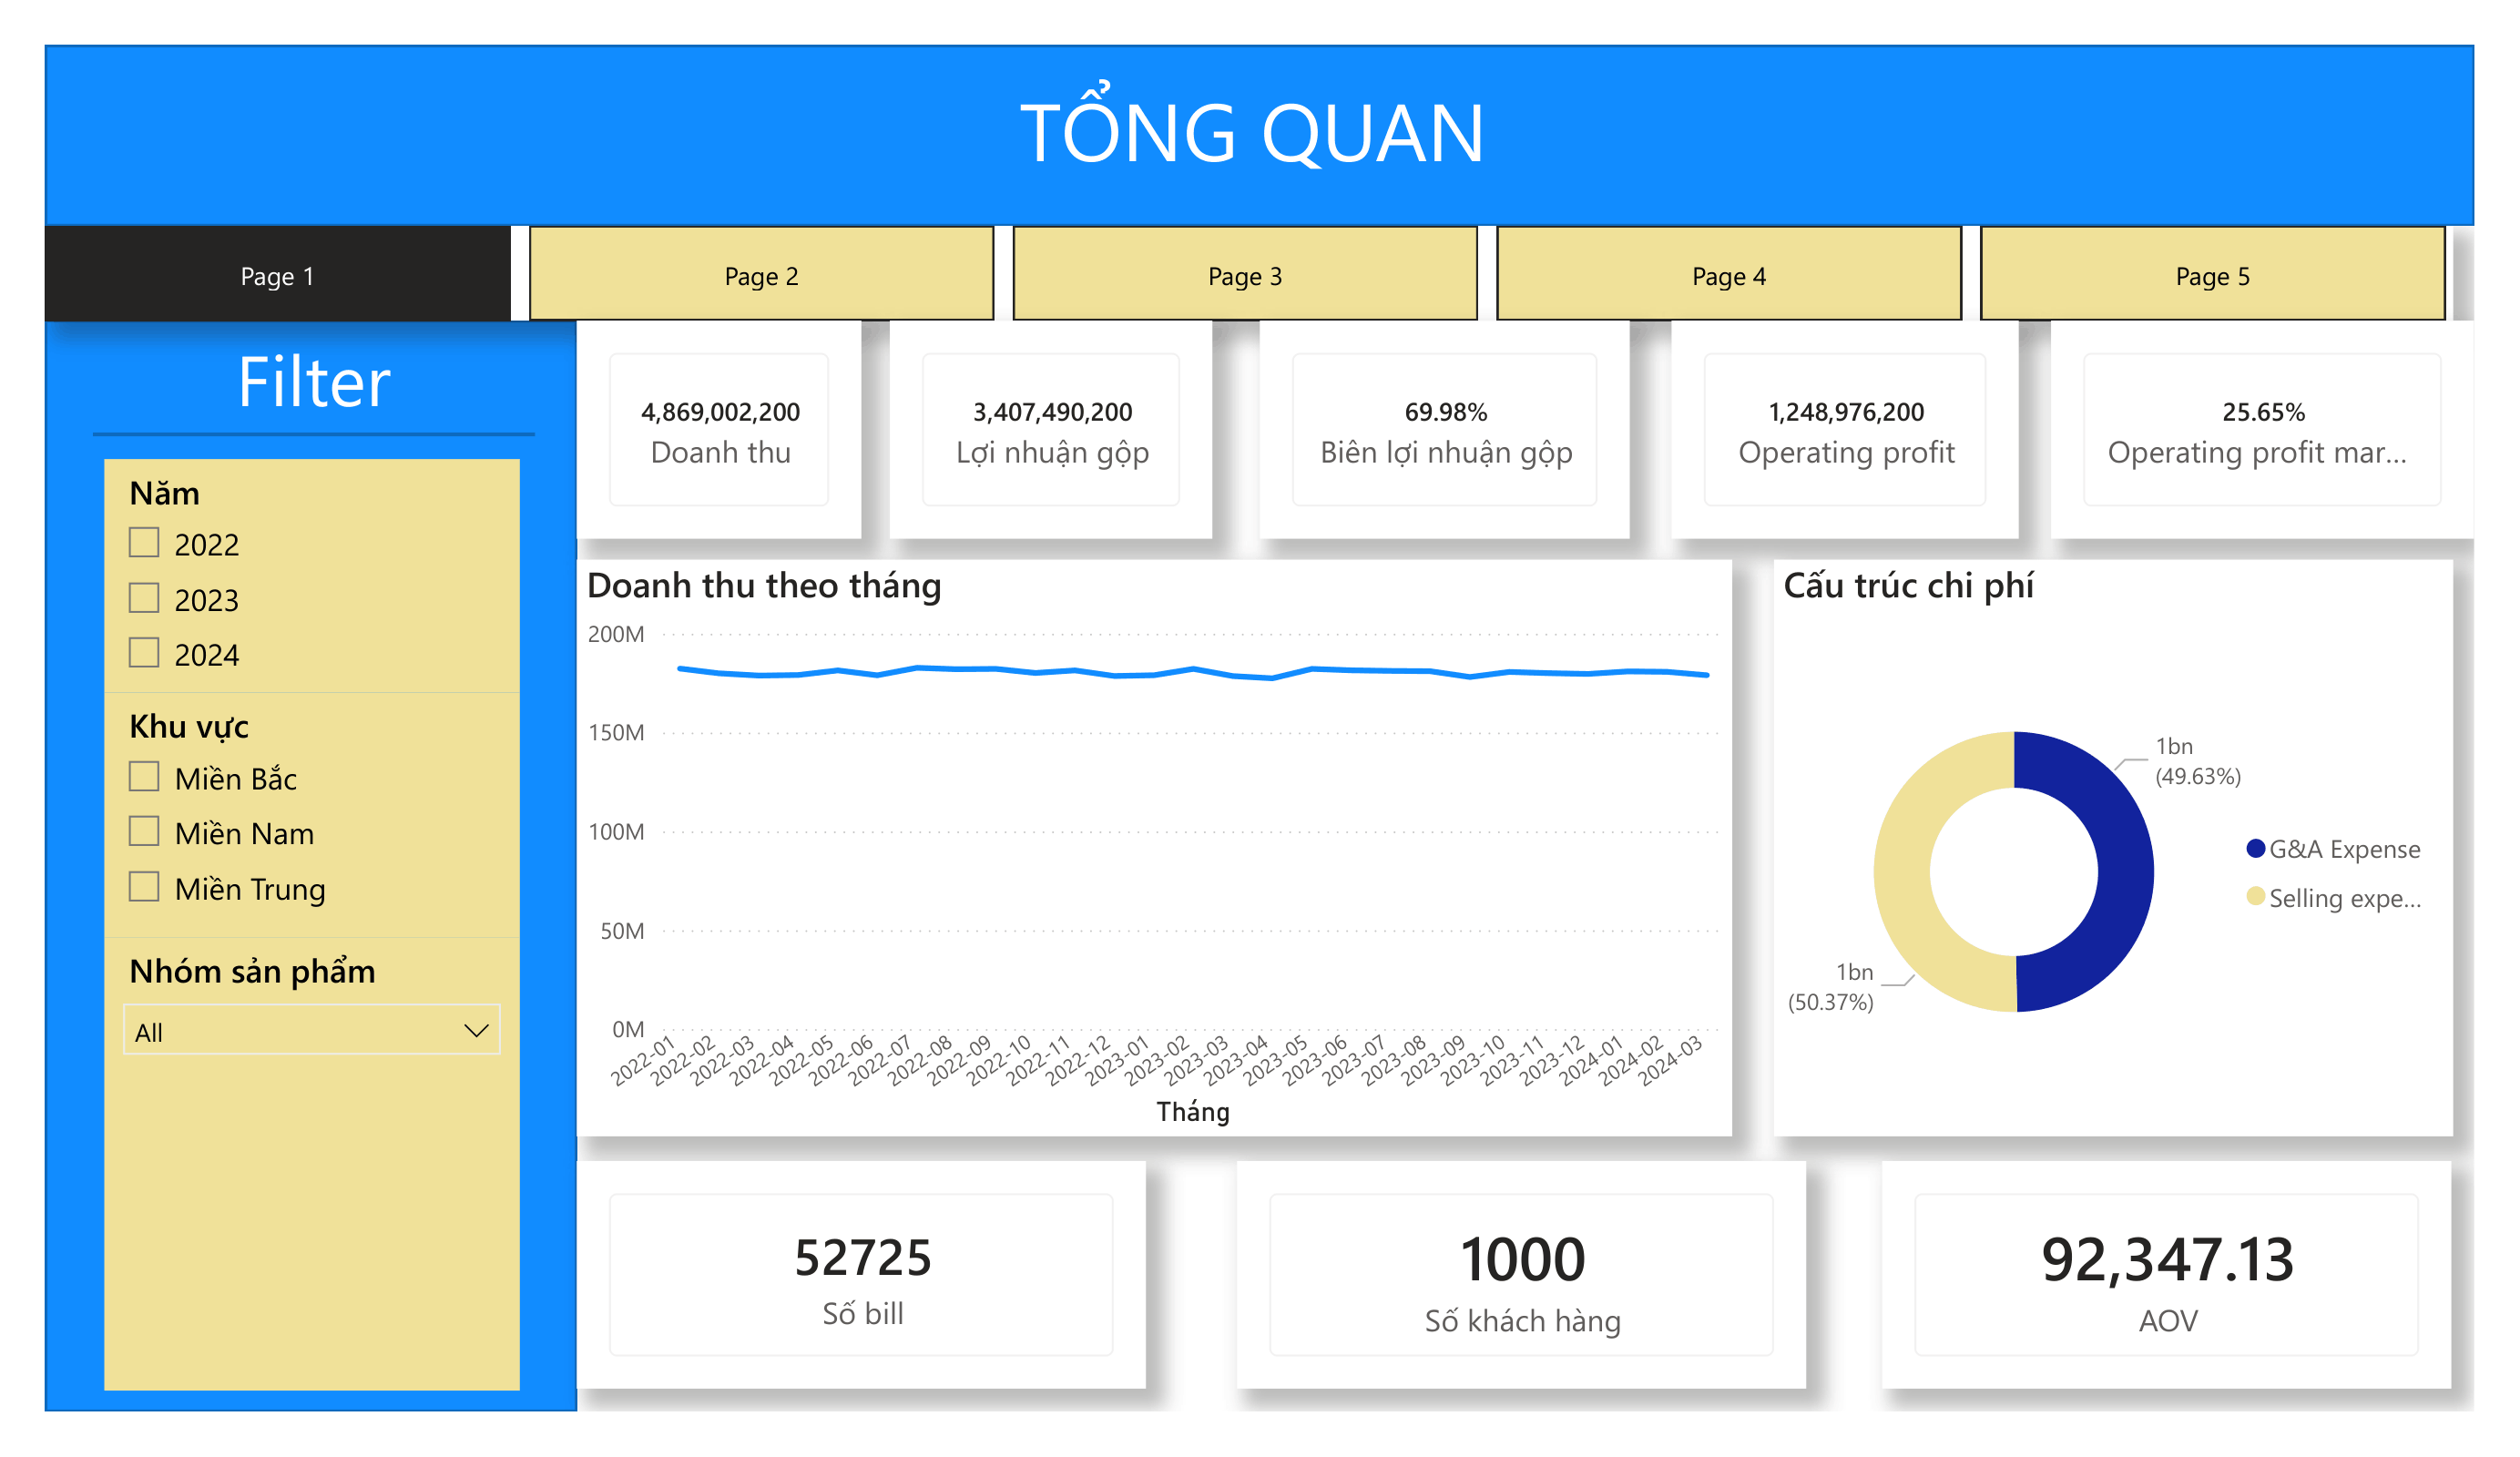

The page's visual inventory and layout, read from the dashboard file:
{"tool":"powerbi","page":{"name":"Page 1","canvas":[1280,720],"ordinal":0},"visuals":[{"type":"shape","box":[0,145,280,575],"z":0},{"type":"textbox","box":[31.7,145,218.3,60],"z":1000},{"type":"shape","box":[25,193.3,233.3,23.3],"z":2000},{"type":"slicer","fields":{"Values":["dim_product.Nhóm sản phẩm"]},"box":[31.2,470,218.8,238.8],"z":3000},{"type":"slicer","fields":{"Values":["dim_store.Khu vực"]},"box":[31.2,341.2,218.8,128.8],"z":4000},{"type":"pageNavigator","box":[0,95,1268.8,50],"z":5000},{"type":"shape","box":[0,0,1280,95],"z":6000},{"type":"textbox","box":[507.5,10,263.8,75],"z":7000},{"type":"cardVisual","fields":{"Data":["M.Doanh thu"]},"box":[280,145,150,115],"z":8000},{"type":"cardVisual","fields":{"Data":["M.Lợi nhuận gộp (gross)"]},"box":[445,145,170,115],"z":9000},{"type":"cardVisual","fields":{"Data":["M.Gross profit margin"]},"box":[640,145,195,115],"z":10000},{"type":"cardVisual","fields":{"Data":["M.Operating profit"]},"box":[856.7,145,183.3,115],"z":11000},{"type":"cardVisual","fields":{"Data":["M.Operating profit margin"]},"box":[1056.7,145,223.3,115],"z":12000},{"type":"lineChart","title":"Doanh thu theo tháng","fields":{"Category":["D_Date.Tháng"],"Y":["M.Doanh thu"]},"box":[280,271.2,608.8,303.8],"z":13000},{"type":"donutChart","title":"Cấu trúc chi phí","fields":{"Y":["M.G&A Expense","M.Selling expense"]},"box":[911.2,271.2,357.5,303.8],"z":14000},{"type":"cardVisual","fields":{"Data":["M.Số bill"]},"box":[280,588.3,300,120],"z":15000},{"type":"cardVisual","fields":{"Data":["M.Số khách hàng"]},"box":[628.3,588.3,300,120],"z":16000},{"type":"cardVisual","fields":{"Data":["M.Average Order Value"]},"box":[968.3,588.3,300,120],"z":17000},{"type":"slicer","fields":{"Values":["D_Date.Năm"]},"box":[31.2,217.5,218.8,123.8],"z":18000}]}

Visuals, with their boxes on the page's 1280x720 design canvas (x1, y1, x2, y2). These are canvas units, not pixel positions in the 2520x1457 screenshot, which may show the page scaled, cropped or inside an application window:
shape: x1=0 y1=145 x2=280 y2=720
textbox: x1=32 y1=145 x2=250 y2=205
shape: x1=25 y1=193 x2=258 y2=217
slicer - dim_product.Nhóm sản phẩm: x1=31 y1=470 x2=250 y2=709
slicer - dim_store.Khu vực: x1=31 y1=341 x2=250 y2=470
pageNavigator: x1=0 y1=95 x2=1269 y2=145
shape: x1=0 y1=0 x2=1280 y2=95
textbox: x1=508 y1=10 x2=771 y2=85
cardVisual - M.Doanh thu: x1=280 y1=145 x2=430 y2=260
cardVisual - M.Lợi nhuận gộp (gross): x1=445 y1=145 x2=615 y2=260
cardVisual - M.Gross profit margin: x1=640 y1=145 x2=835 y2=260
cardVisual - M.Operating profit: x1=857 y1=145 x2=1040 y2=260
cardVisual - M.Operating profit margin: x1=1057 y1=145 x2=1280 y2=260
"Doanh thu theo tháng" lineChart: x1=280 y1=271 x2=889 y2=575
"Cấu trúc chi phí" donutChart: x1=911 y1=271 x2=1269 y2=575
cardVisual - M.Số bill: x1=280 y1=588 x2=580 y2=708
cardVisual - M.Số khách hàng: x1=628 y1=588 x2=928 y2=708
cardVisual - M.Average Order Value: x1=968 y1=588 x2=1268 y2=708
slicer - D_Date.Năm: x1=31 y1=218 x2=250 y2=341
